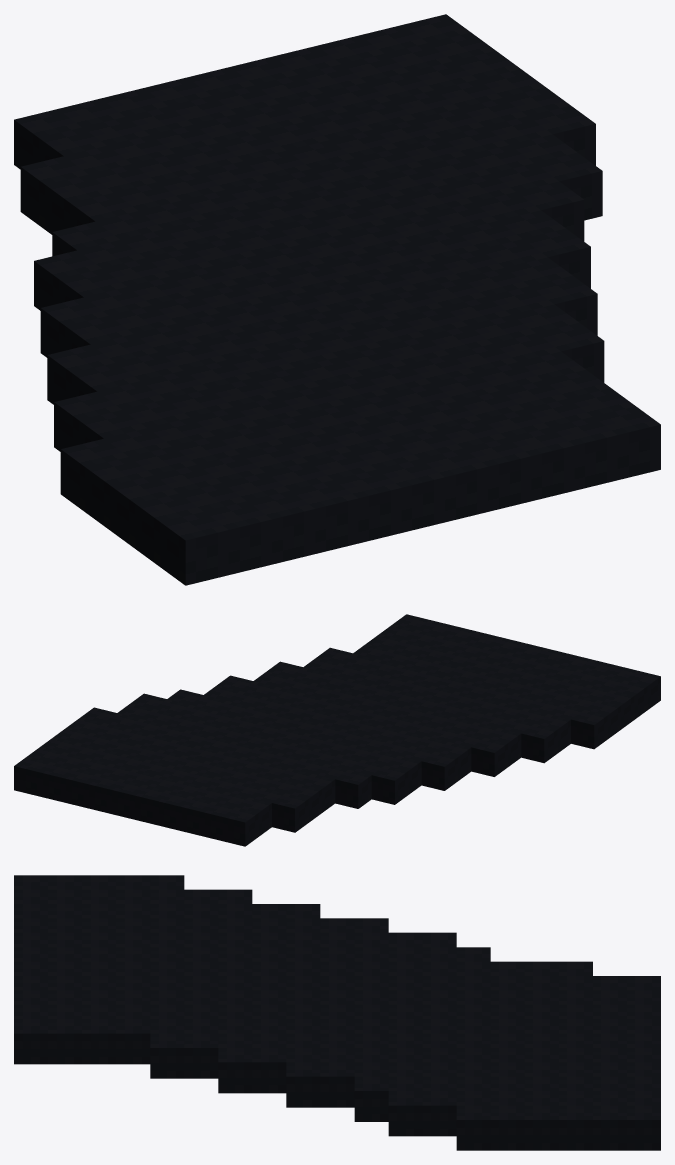
The model's file is CurvaInicialsuperior.fbx.
3 views of the same model, one above another, from view 1: azimuth 30°, elevation 25°; view 2: azimuth 150°, elevation 25°; view 3: azimuth 270°, elevation 25° (orthographic). The views are drawn at different scales.
Parts seen in each view (by area): view 1: Curva Inicial Superior; view 2: Curva Inicial Superior; view 3: Curva Inicial Superior.
Part boxes in pixels (bbox=[...]): Curva Inicial Superior: bbox=[14, 14, 660, 585]; Curva Inicial Superior: bbox=[14, 614, 660, 846]; Curva Inicial Superior: bbox=[14, 875, 660, 1150].
Size of the model in its own units: 1700 by 100 by 1900.
Materials: 1 (1 with a texture image).
